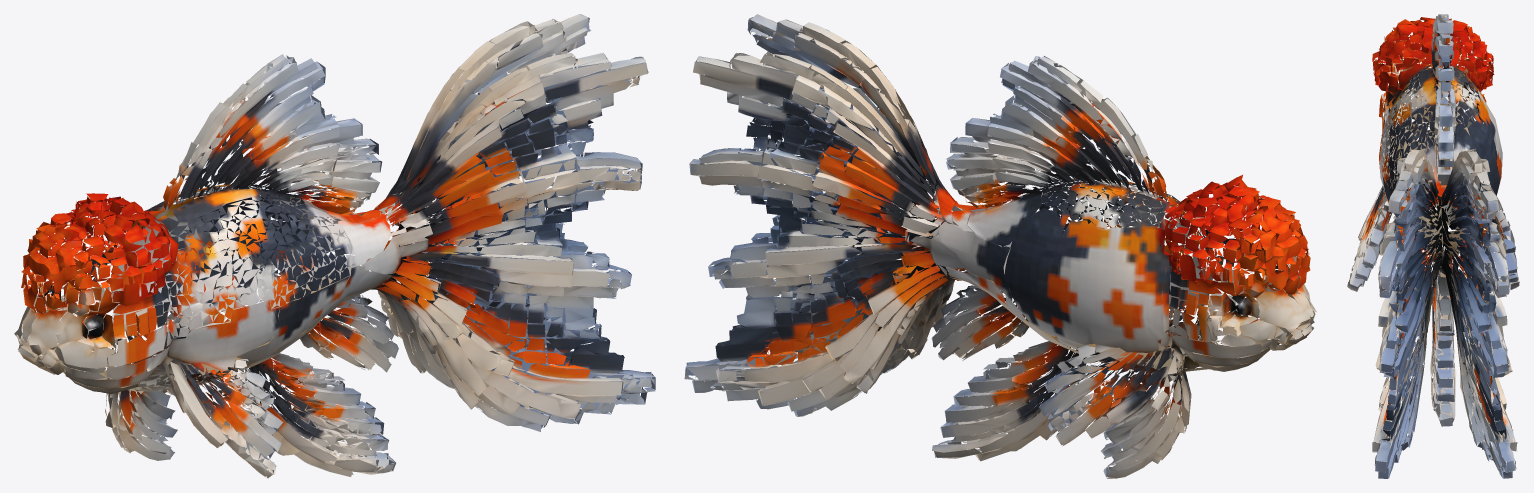
File: fish_a.glb
The picture shows the model from 3 angles, left to right: view 1: azimuth 30°, elevation 25°; view 2: azimuth 150°, elevation 25°; view 3: azimuth 270°, elevation 25°; orthographic projection. The views are drawn at different scales.
Visible parts, largest first — view 1: node_0; view 2: node_0; view 3: node_0.
Part boxes in pixels (box(x1,y1,x2,y2)): node_0: box(14, 14, 655, 478); node_0: box(684, 14, 1317, 478); node_0: box(1347, 14, 1519, 478).
Size of the model in its own units: 1.04 by 0.7223 by 0.3088.
Materials: 1 (1 with a texture image).
